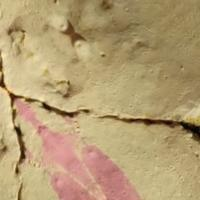crack: (1, 74, 199, 183)
